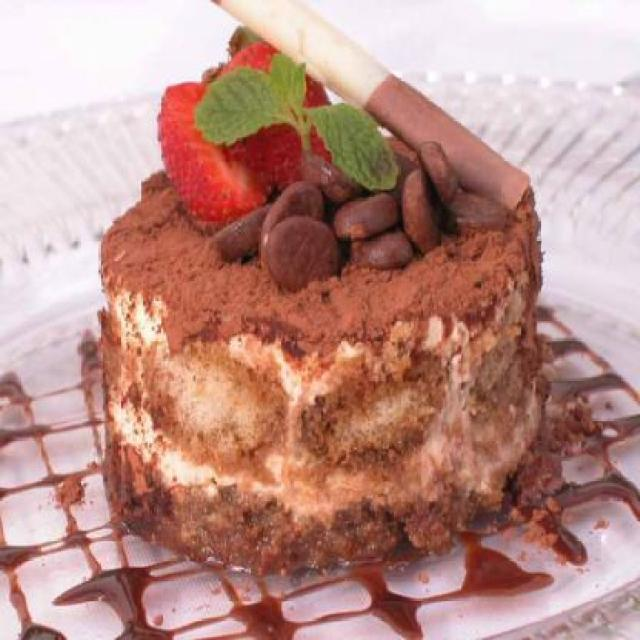Mushroom: (155, 24, 328, 210)
Tiramisu: (113, 81, 541, 581)
